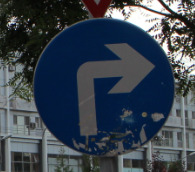right_turn: (33, 18, 175, 155)
